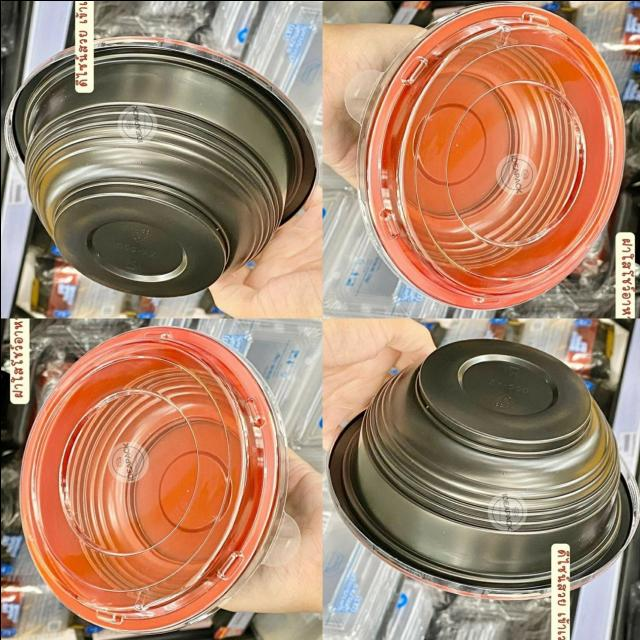plastik: (357, 3, 624, 309), (19, 327, 286, 631), (328, 339, 639, 598), (4, 37, 315, 296)
